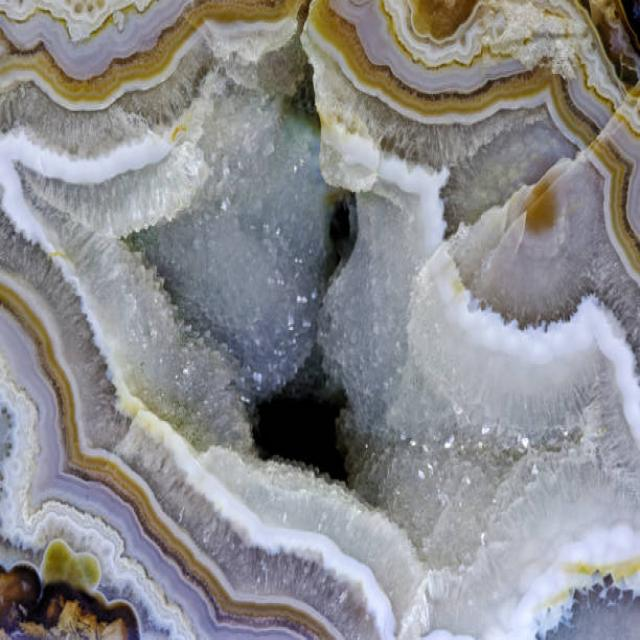Metamorphic: (2, 1, 640, 638)
